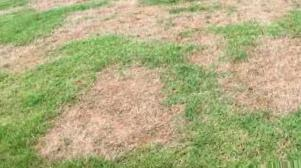patch: (63, 79, 175, 146), (233, 38, 293, 111), (71, 13, 168, 39), (179, 10, 281, 25), (4, 46, 47, 66)
